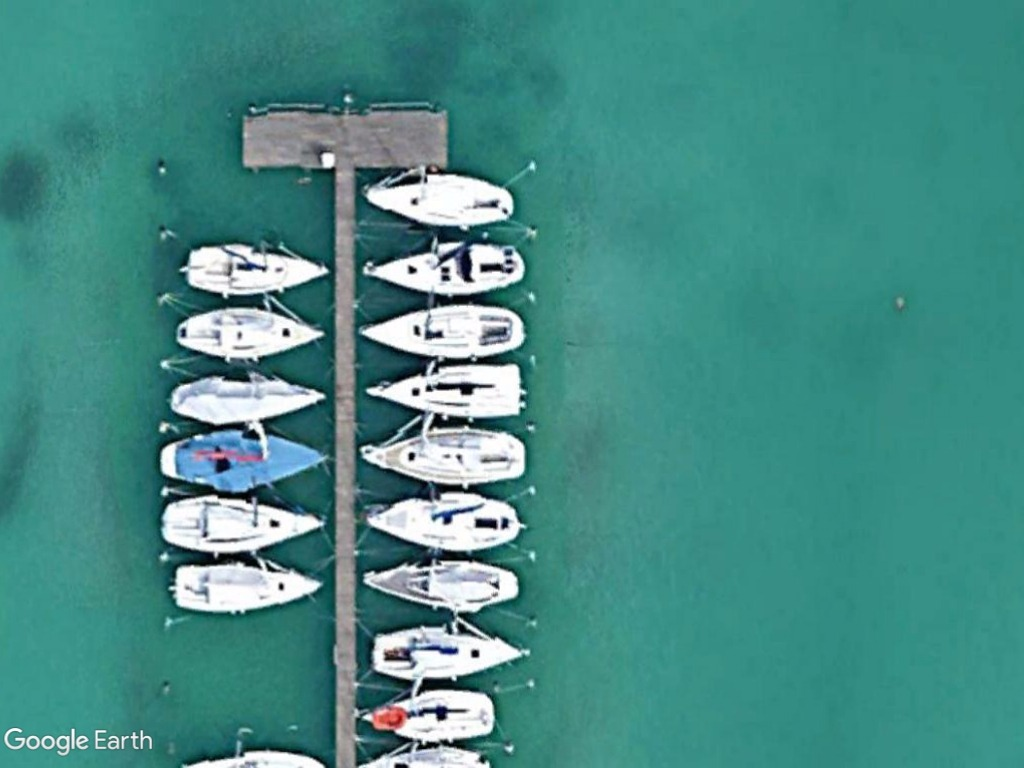boat: (154, 424, 333, 497), (355, 555, 532, 621), (358, 424, 529, 491), (358, 491, 530, 557), (160, 491, 328, 556), (356, 300, 528, 363), (356, 166, 515, 232), (358, 362, 528, 422), (360, 240, 528, 300), (178, 236, 331, 301), (165, 368, 328, 427), (168, 302, 328, 362), (366, 624, 528, 683), (170, 559, 326, 617), (356, 687, 499, 745)
